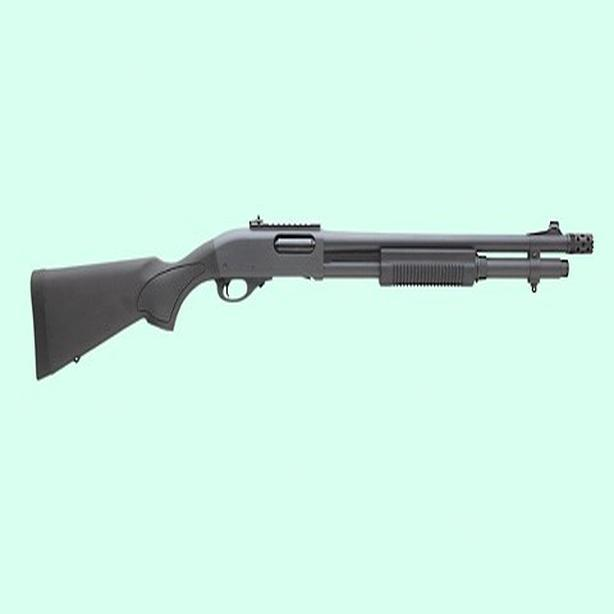Firearm: (13, 186, 605, 403)
